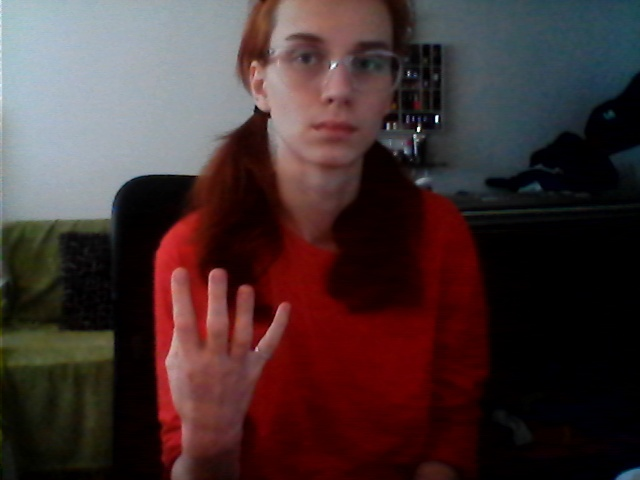kedy: (156, 255, 300, 437)
